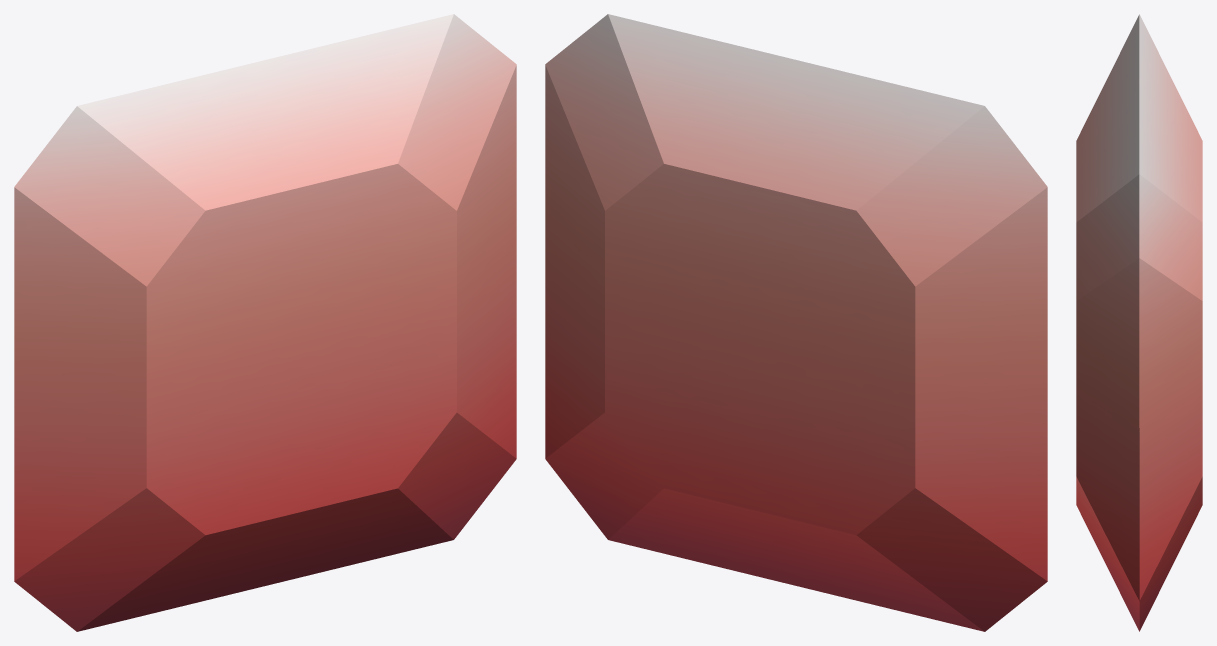
File: gem3.glb
3 views of the same model, side by side, from view 1: azimuth 30°, elevation 25°; view 2: azimuth 150°, elevation 25°; view 3: azimuth 270°, elevation 25° (orthographic). The views are drawn at different scales.
Parts seen in each view (by area): view 1: Gem9; view 2: Gem9; view 3: Gem9.
Part boxes in pixels (left/top/right/bottom): Gem9: left=14, top=14, right=516, bottom=631; Gem9: left=545, top=14, right=1047, bottom=631; Gem9: left=1076, top=14, right=1202, bottom=631.
Size of the model in its own units: 1 by 1 by 0.25.
Materials: 1 (1 with a texture image).
